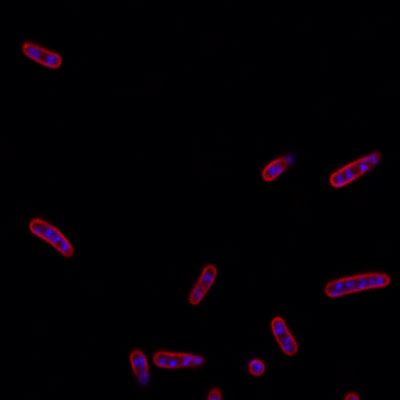Control: (322, 270, 391, 299), (27, 216, 73, 259), (20, 41, 63, 69), (269, 315, 299, 355)
Oblique: (328, 150, 384, 189), (187, 263, 218, 306), (152, 348, 209, 370), (261, 152, 296, 182), (127, 348, 152, 389)
